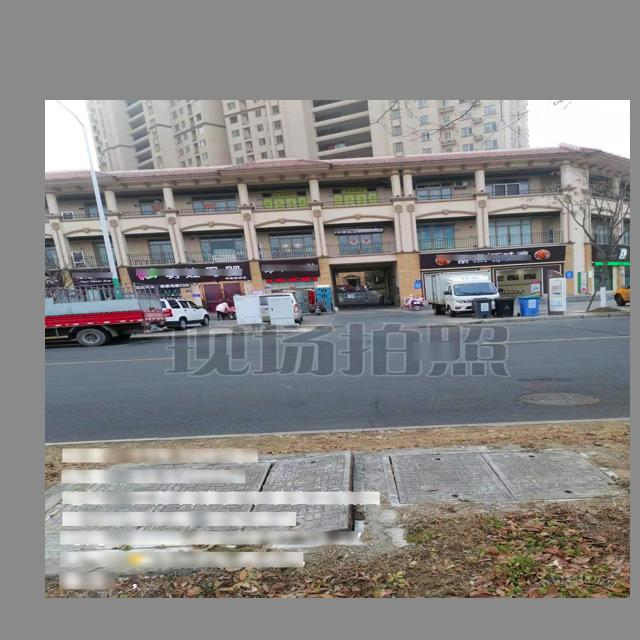good: (382, 445, 628, 511)
uncovered: (50, 452, 361, 556)
